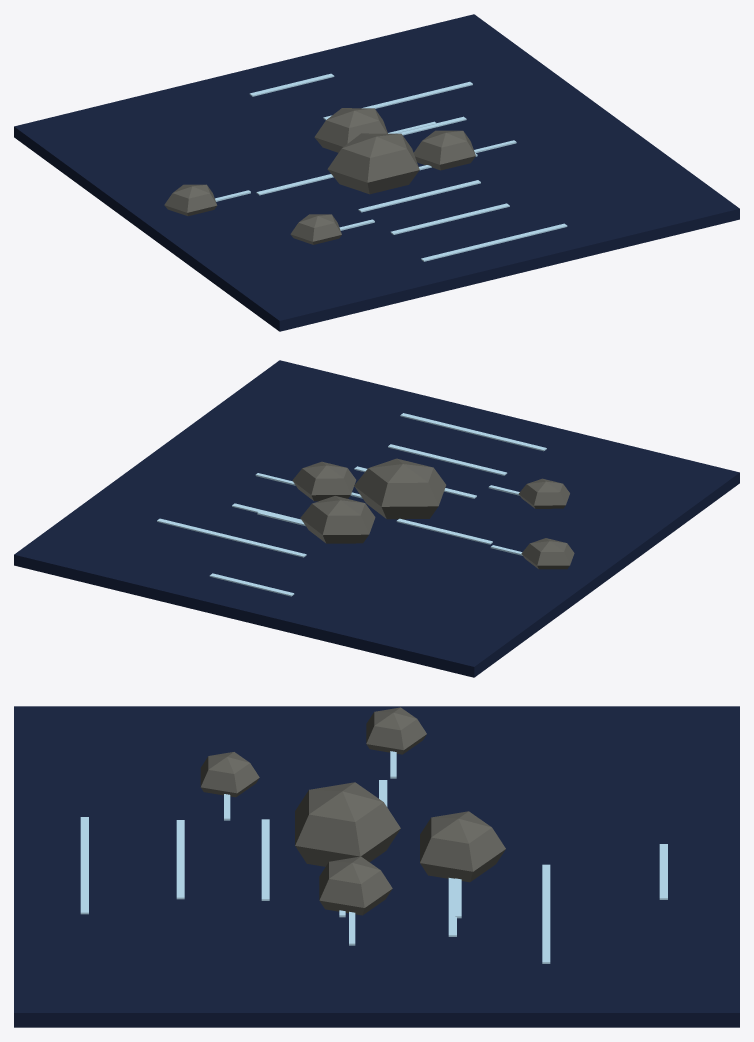
The model's file is br_rapids.glb.
3 renders of one model, top to bottom at view 1: azimuth 30°, elevation 25°; view 2: azimuth 150°, elevation 25°; view 3: azimuth 270°, elevation 25°, orthographic. The views are drawn at different scales.
Visible parts, largest first — view 1: br_rapids; view 2: br_rapids; view 3: br_rapids.
Boxes of the visible parts, x1,y1,x2,y2 form: br_rapids: [14, 14, 739, 331]; br_rapids: [14, 360, 739, 677]; br_rapids: [14, 706, 739, 1027].
Size of the model in its own units: 8 by 0.9028 by 8.
